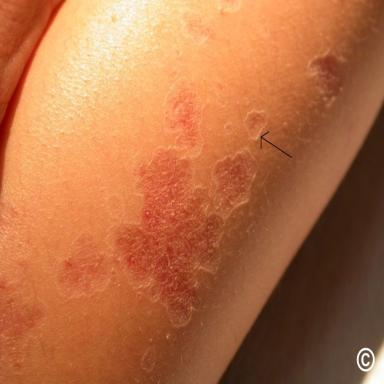Porokeratosis: (62, 81, 257, 326), (0, 198, 43, 382), (309, 51, 347, 104), (245, 110, 268, 139), (141, 346, 157, 372)
